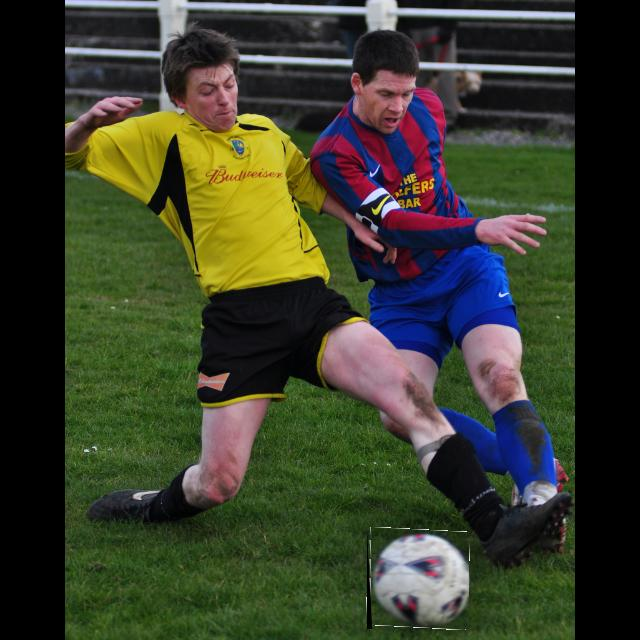Football: (367, 529, 469, 629)
